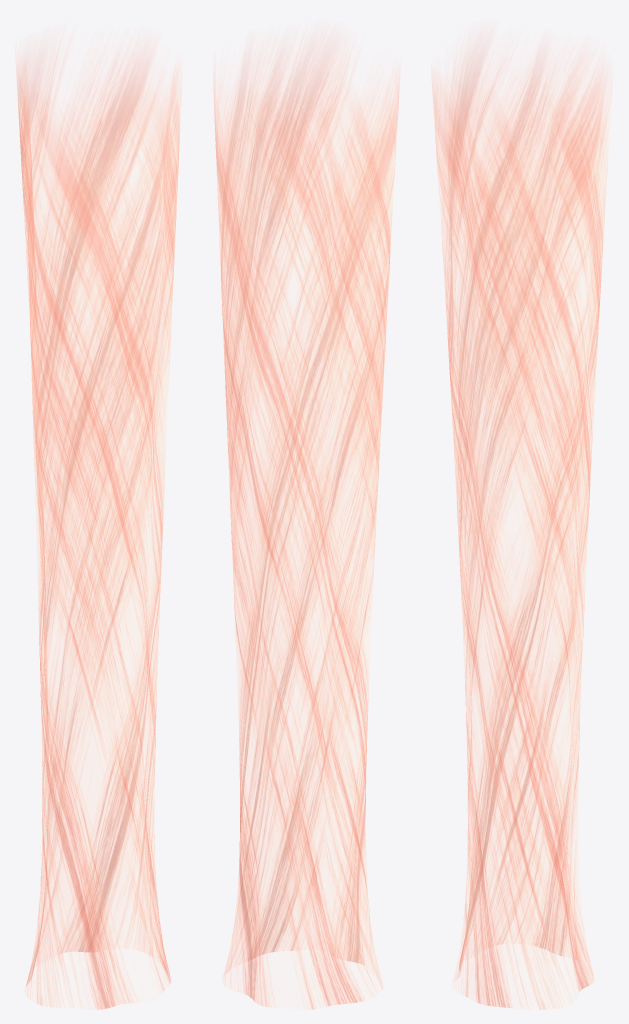
File: clear_devil_core_1.glb
3 renders of one model, left to right at view 1: azimuth 30°, elevation 25°; view 2: azimuth 150°, elevation 25°; view 3: azimuth 270°, elevation 25°, orthographic.
Visible parts, largest first — view 1: devil_core_1; view 2: devil_core_1; view 3: devil_core_1.
Boxes of the visible parts, box(x1,y1,x2,y2) form: devil_core_1: box(16, 49, 181, 1009); devil_core_1: box(213, 44, 399, 1009); devil_core_1: box(432, 44, 612, 1009).
Size of the model in its own units: 3.69 by 21.2 by 3.83.
Materials: 1 (1 with a texture image).
